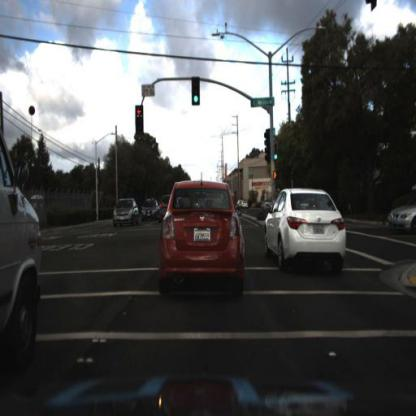car: (160, 181, 246, 298), (265, 189, 350, 277), (386, 186, 416, 246), (390, 199, 416, 237), (114, 199, 141, 230), (140, 194, 161, 226)
trafficLight: (191, 76, 202, 107), (273, 143, 281, 165)
trafficLight-RedLeft: (136, 106, 145, 138)
